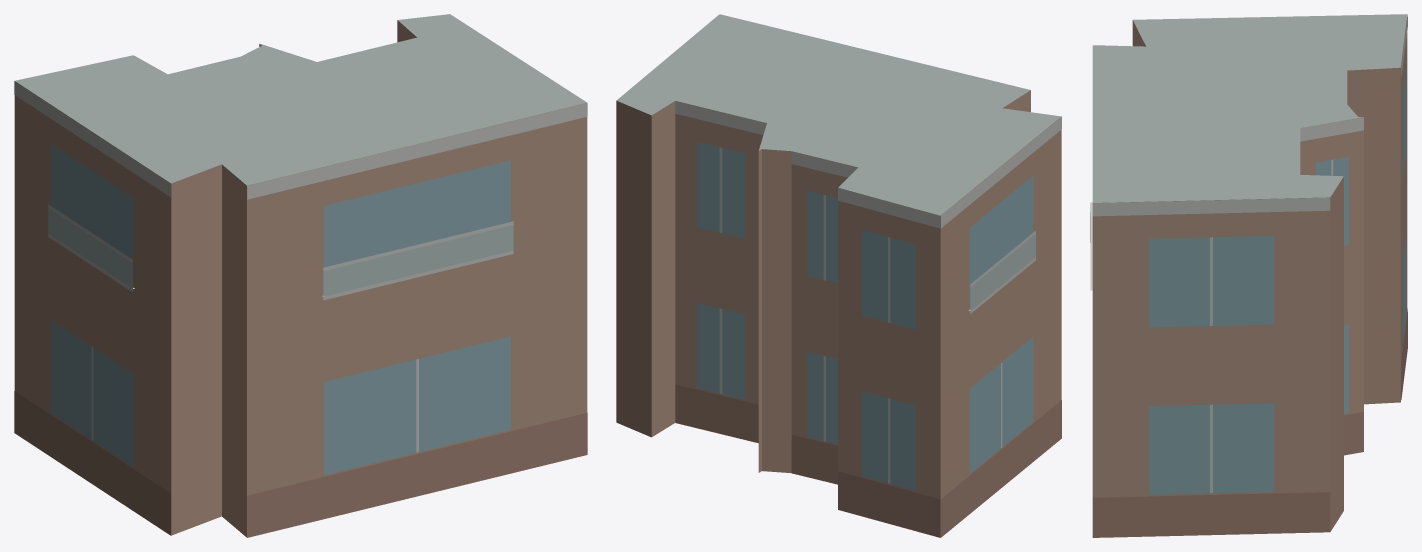
The model's file is survey-upis-33030873.glb.
The picture shows the model from 3 angles, left to right: view 1: azimuth 30°, elevation 25°; view 2: azimuth 150°, elevation 25°; view 3: azimuth 270°, elevation 25°; orthographic projection. The views are drawn at different scales.
Visible parts, largest first — view 1: survey-upis-33030873.tmp; view 2: survey-upis-33030873.tmp; view 3: survey-upis-33030873.tmp.
Boxes of the visible parts, x1,y1,x2,y2 form: survey-upis-33030873.tmp: (14, 14, 587, 537); survey-upis-33030873.tmp: (616, 14, 1061, 537); survey-upis-33030873.tmp: (1090, 14, 1407, 537).
Size of the model in its own units: 7.39 by 6.1 by 5.25.
